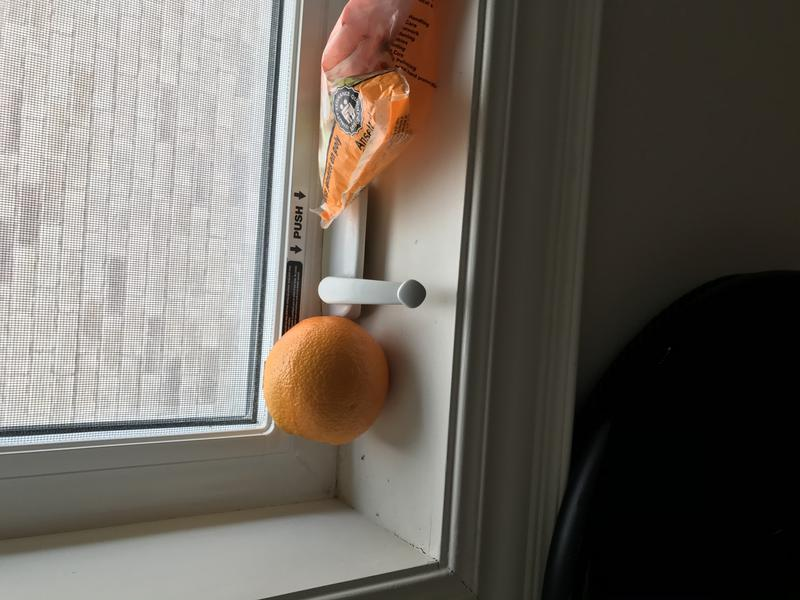orange: (250, 310, 399, 449)
